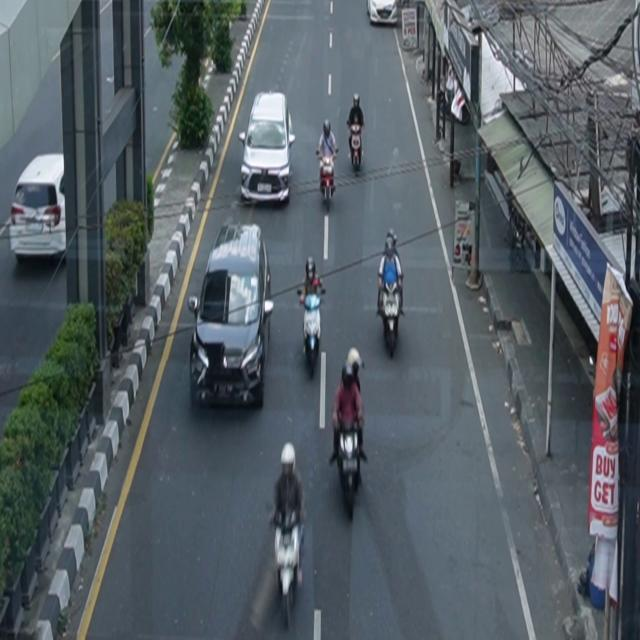car: (189, 221, 275, 411), (239, 92, 296, 206), (10, 153, 67, 265), (367, 1, 398, 26)
